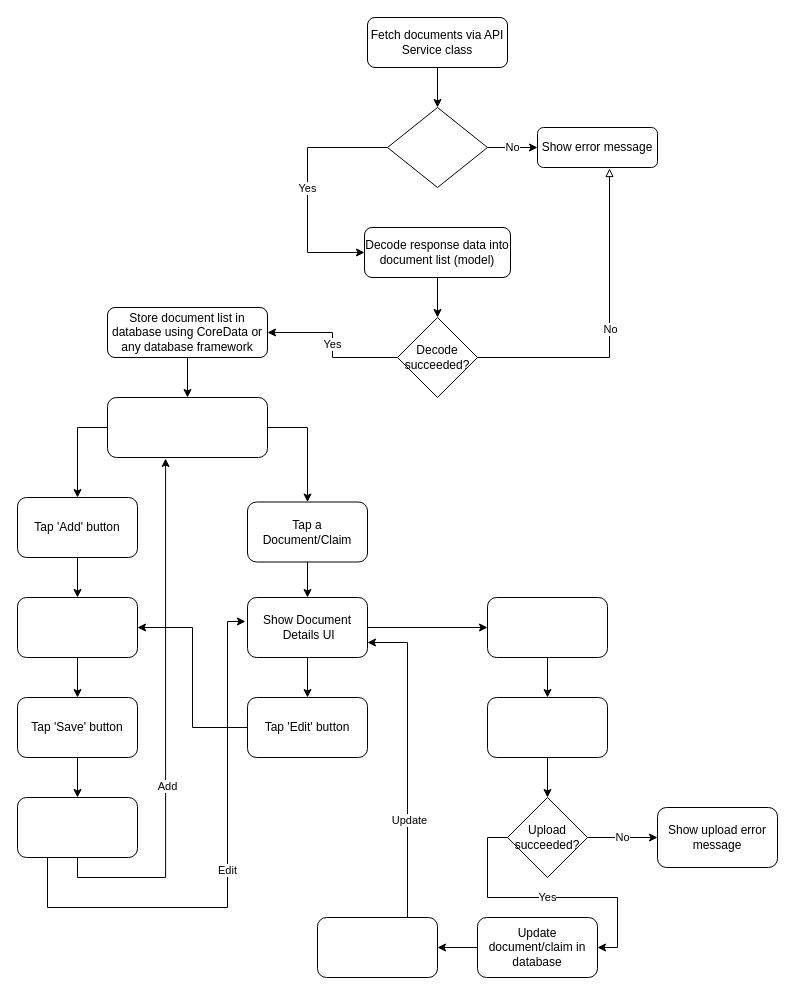
Some shapes in this 795 by 995 pixel diagram are drawn without their labels. Each missing label, with the centre of its shape:
"Response succeeded?" goes at point 437,147.
"Save new document/claim in database" goes at point 77,827.
"Show Add/Edit Document UI" goes at point 77,627.
"show upload success message" goes at point 377,947.
"Tap 'Submit' button" goes at point 547,627.
"Update Documents UI with document list" goes at point 187,427.
"Upload document/claim via API Service class" goes at point 547,727.
